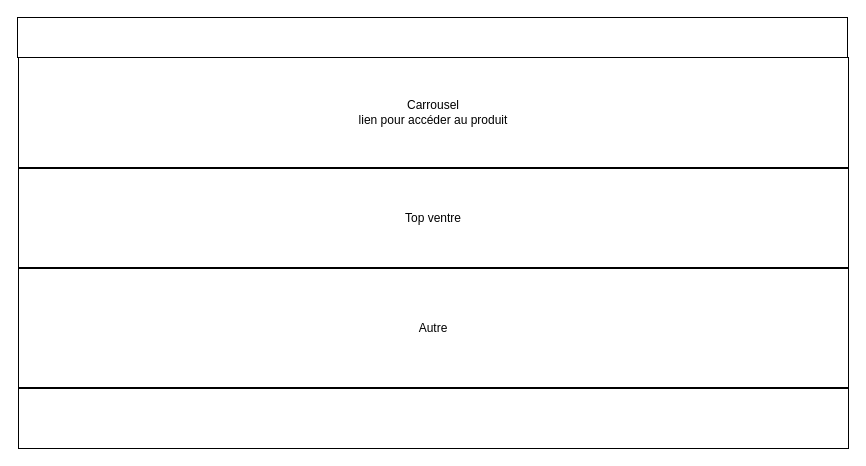
Image size: 866x466. Some labels were removed from this diagram. Each missing label, with the centre of its shape:
Bas de page: pixel 433 418
Menu: pixel 432 37
